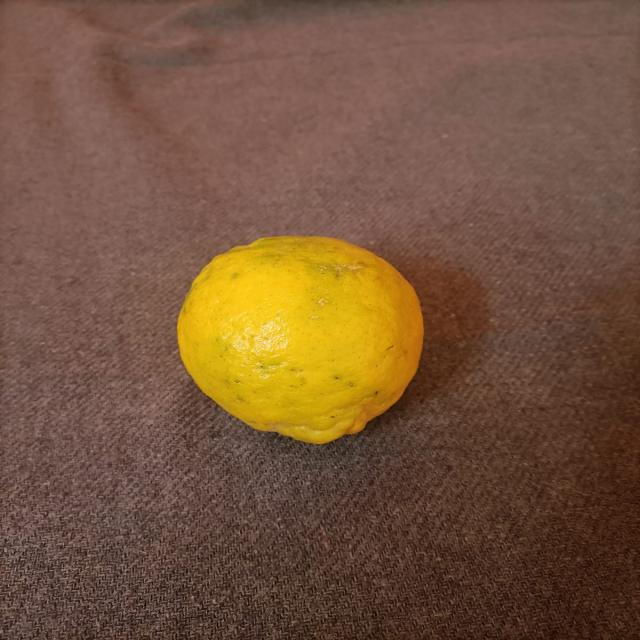orange: (110, 175, 480, 566)
